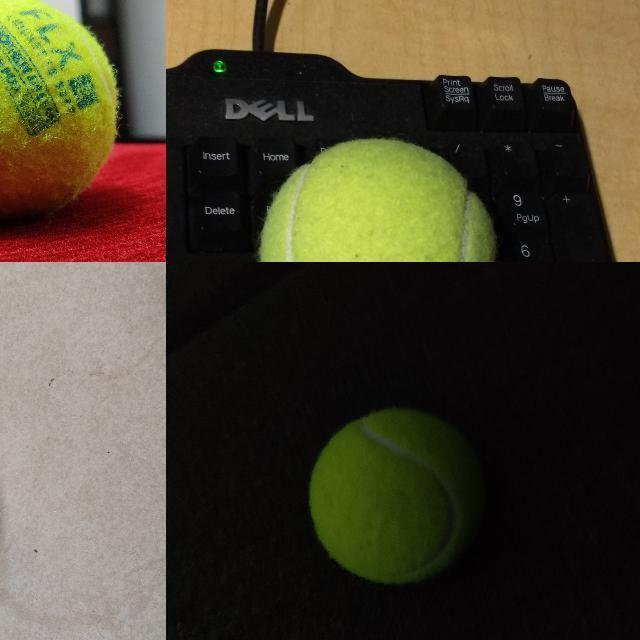tennis-ball: (308, 408, 486, 583), (257, 138, 499, 261), (0, 0, 124, 224)
